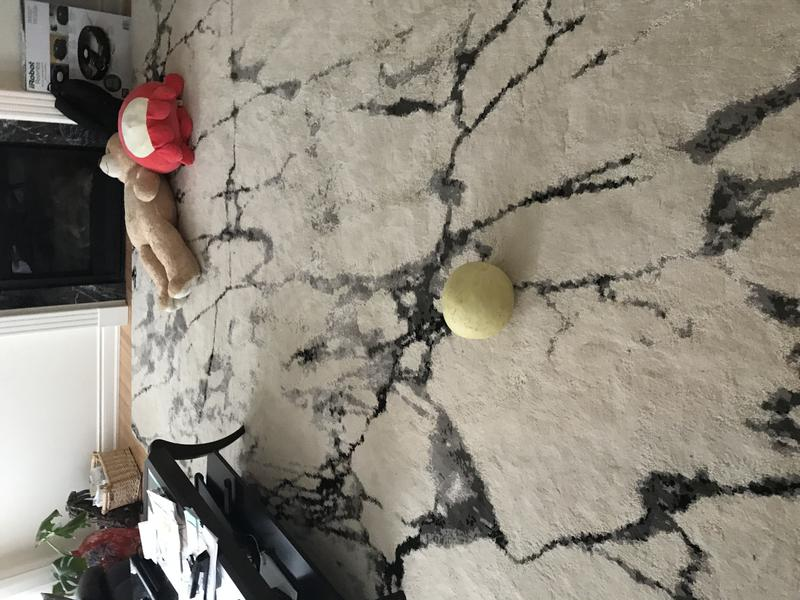honeydew: (433, 257, 518, 341)
